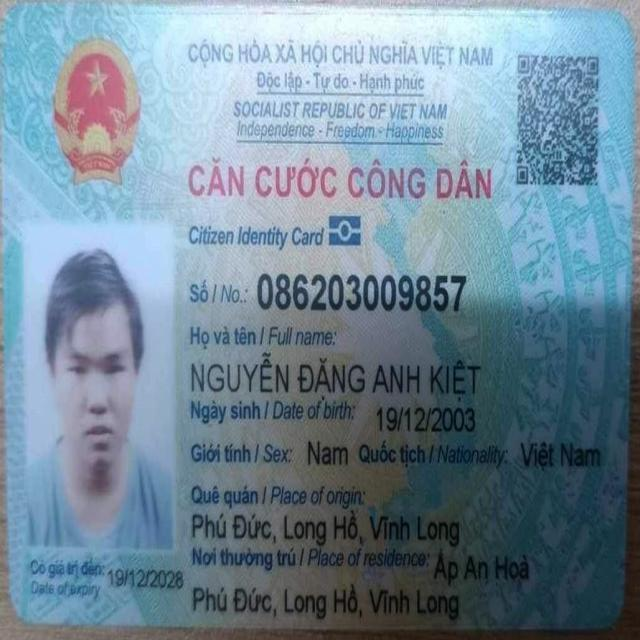current_place: (188, 585, 466, 623), (433, 544, 535, 591)
dob: (372, 397, 481, 441)
expire_date: (105, 560, 187, 598)
gender: (302, 422, 352, 478)
id: (253, 264, 471, 320)
name: (181, 345, 491, 403)
nationality: (515, 432, 607, 478)
origin_place: (189, 507, 468, 548)
